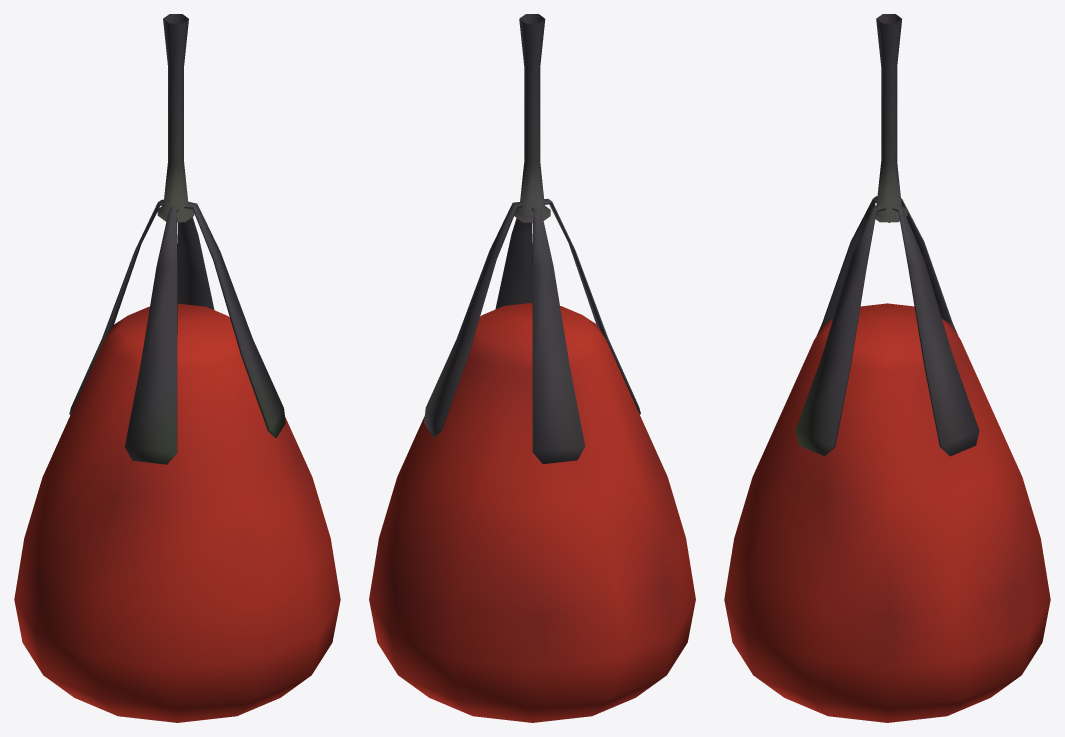
The model's file is punching_bag_1.glb.
3 views of the same model, side by side, from view 1: azimuth 30°, elevation 25°; view 2: azimuth 150°, elevation 25°; view 3: azimuth 270°, elevation 25° (orthographic).
Visible parts, largest first — view 1: GymEquipments_23_GymEquipments_SG_0; view 2: GymEquipments_23_GymEquipments_SG_0; view 3: GymEquipments_23_GymEquipments_SG_0.
Part boxes in pixels (bbox=[...]): GymEquipments_23_GymEquipments_SG_0: bbox=[14, 14, 340, 722]; GymEquipments_23_GymEquipments_SG_0: bbox=[369, 14, 695, 722]; GymEquipments_23_GymEquipments_SG_0: bbox=[724, 14, 1050, 722].
Size of the model in its own units: 0.2604 by 0.5979 by 0.2604.
1 material, 1 textured.
